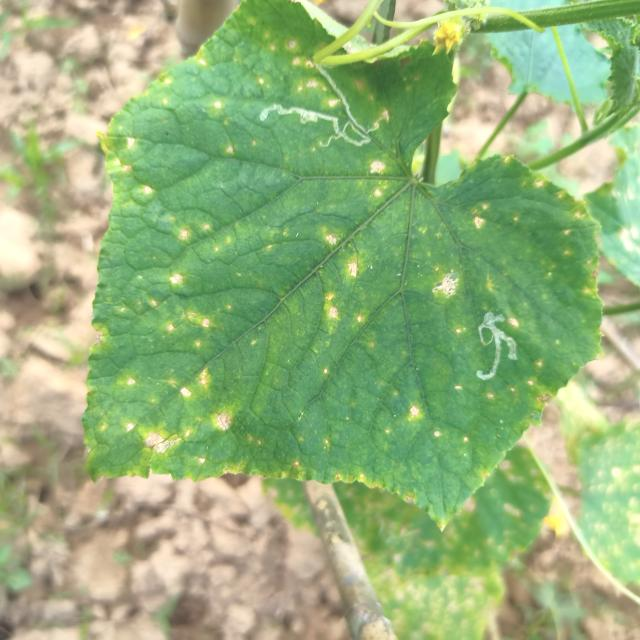disease_cucumber: (88, 156, 265, 473), (405, 201, 595, 449), (154, 0, 396, 156), (296, 153, 464, 343)
